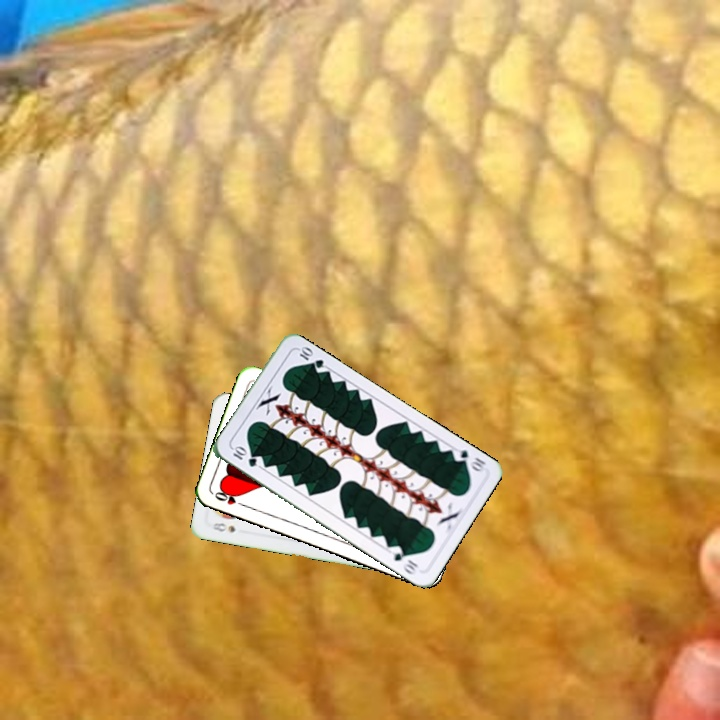G10: (448, 446, 488, 474), (228, 442, 259, 470)
HO: (211, 486, 249, 510)
S8: (208, 518, 238, 535)
